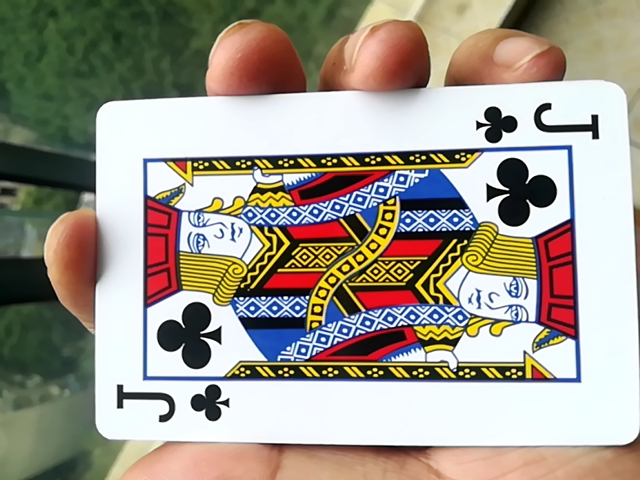mh j: (62, 101, 632, 459)
